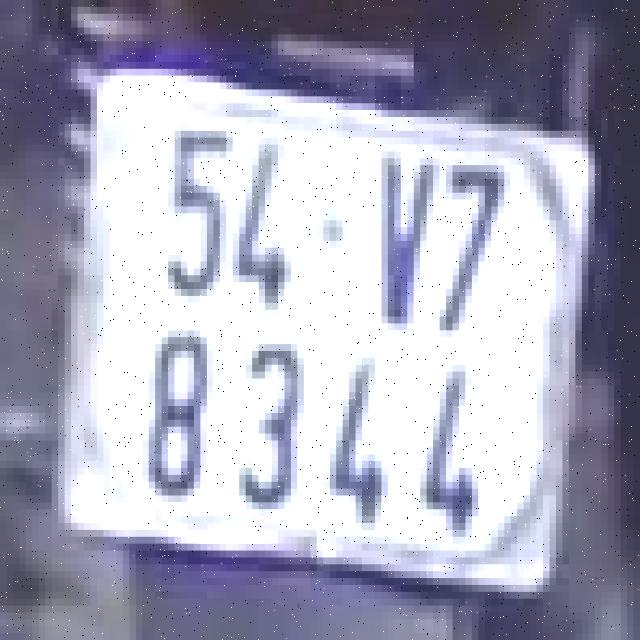3: (236, 330, 313, 523)
4: (408, 354, 492, 554), (327, 337, 391, 530), (236, 130, 301, 310)
5: (152, 113, 236, 300)
7: (436, 154, 514, 340)
8: (136, 316, 213, 502)
V: (368, 141, 439, 334)
